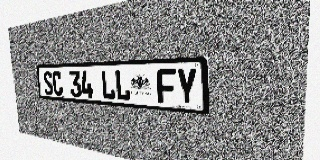3: (69, 71, 82, 97)
4: (80, 70, 94, 98)
C: (52, 71, 63, 96)
F: (156, 68, 176, 104)
L: (114, 69, 131, 101), (101, 70, 116, 100)
S: (43, 71, 53, 95)
Y: (176, 68, 197, 106)
